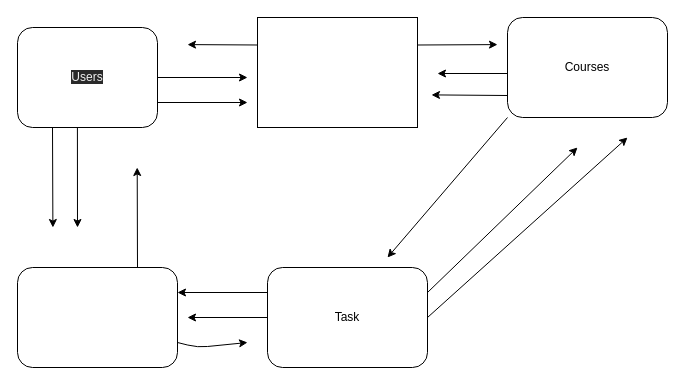
This 685x385 diagram has some shape labels left out. The centre of each missing label's shape, as x and y in pixels:
UserCources: point 337,72
UserTasks: point 97,317
